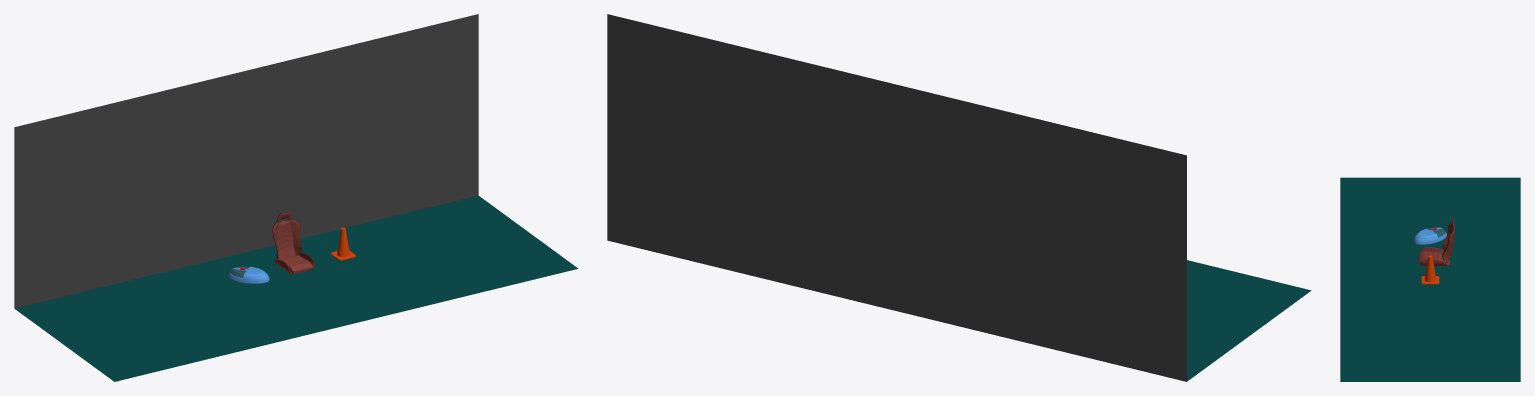
Rendered from TestSceneNew.glb.
The picture shows the model from 3 angles, left to right: view 1: azimuth 30°, elevation 25°; view 2: azimuth 150°, elevation 25°; view 3: azimuth 270°, elevation 25°; orthographic projection. The views are drawn at different scales.
Visible parts, largest first — view 1: Plane.001, Plane, Seat, Mouse Body, SeatBottom; view 2: Plane.001, Plane; view 3: Plane, Mouse Body, SeatBottom, Seat, Cube.
Part boxes in pixels (x1,y1,x2,y2): Plane.001: [14, 14, 478, 308]; Plane: [15, 195, 578, 381]; Seat: [272, 212, 301, 259]; Mouse Body: [229, 266, 269, 283]; SeatBottom: [274, 252, 314, 274]; Plane.001: [607, 14, 1186, 381]; Plane: [1187, 260, 1311, 381]; Plane: [1340, 177, 1520, 381]; Mouse Body: [1413, 227, 1446, 244]; SeatBottom: [1418, 247, 1449, 265]; Seat: [1442, 217, 1454, 262]; Cube: [1421, 255, 1439, 284].
Bounding box in the file's own units: 23.92 × 8.93 × 8.93.
